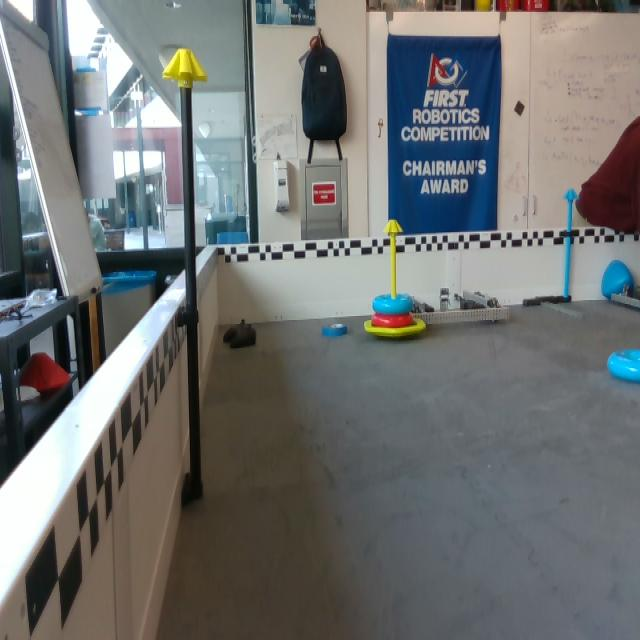Blue-Ring: (606, 347, 639, 386), (373, 293, 413, 316), (321, 322, 350, 337)
Mobile-Goal: (362, 216, 430, 340)
Red-Ring: (371, 313, 415, 328)
Yellow-Stake-Head: (162, 48, 209, 84), (382, 219, 404, 234)
zblue-Stake-Head: (563, 189, 579, 200)
